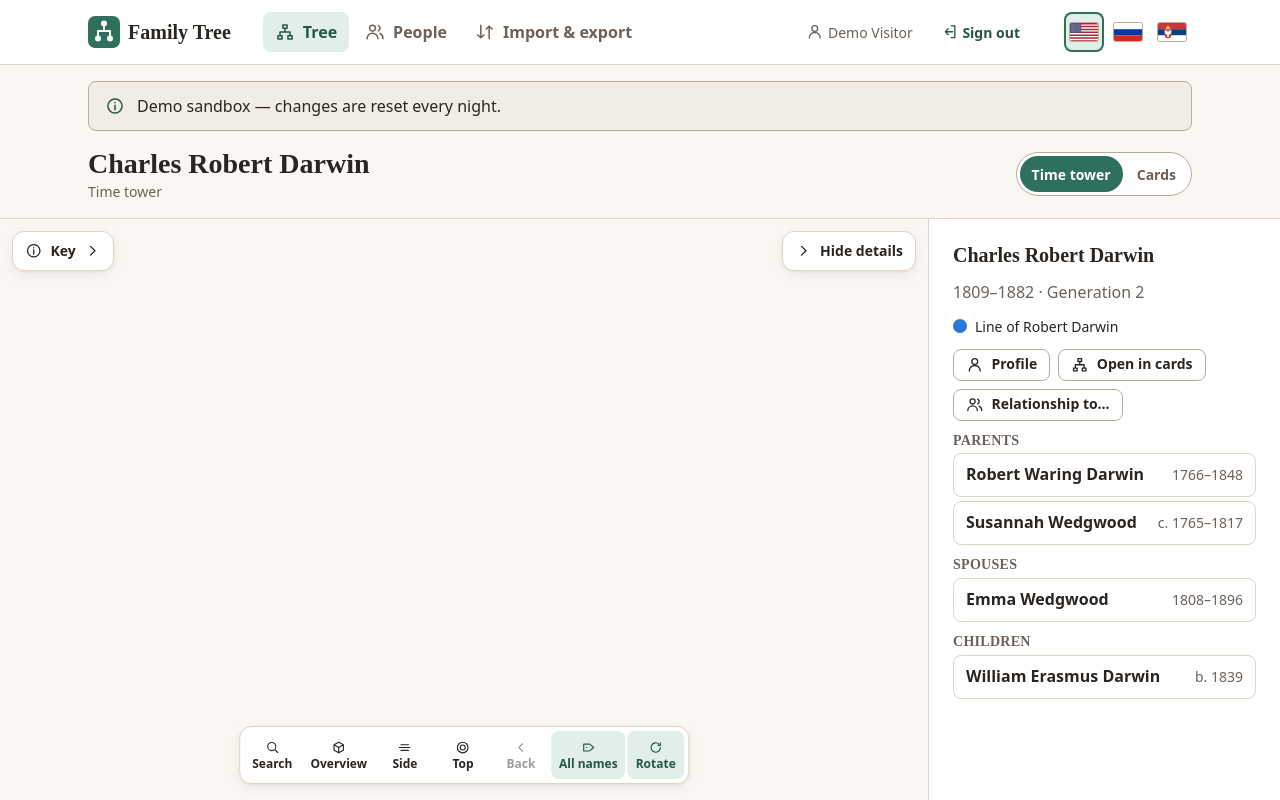
it: the tower opens on the person in the address with the switch, the key and the relatives
The image size is (1280, 800).
Check: the 1st heading "Charles Robert Darwin" is shown, box [88,147,370,181]
Check: the links read "Time tower", "Cards", in this order, box [1020,156,1123,192]; [1137,165,1176,184]
Click the button "Key".
click(63, 251)  # box [12,231,114,271]
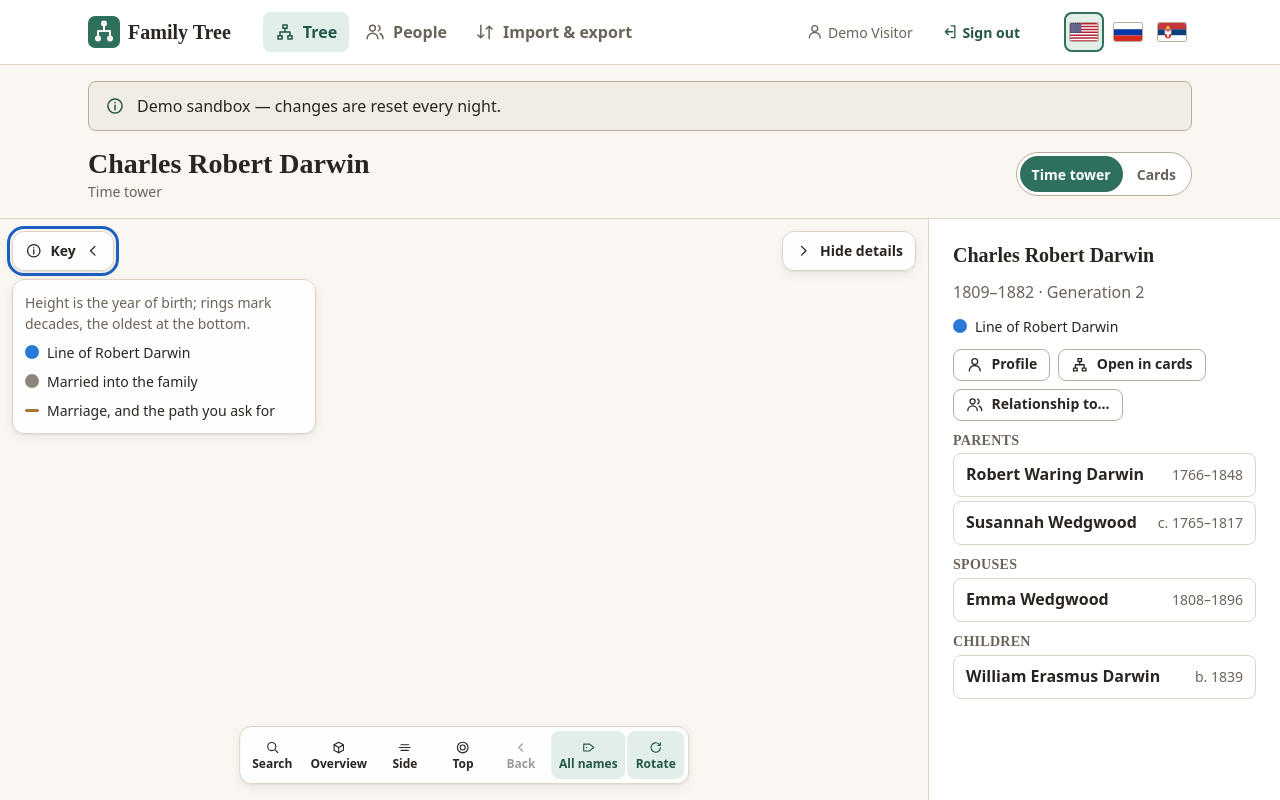
Check: the button "Key" is expanded, box [12,231,114,271]
Check: the list item "Height is the year of birth; rings mark decades, the oldest at the bottom." is shown, box [25,292,303,334]
Check: the 2nd list item "Line of Robert Darwin" is shown, box [25,343,190,362]
